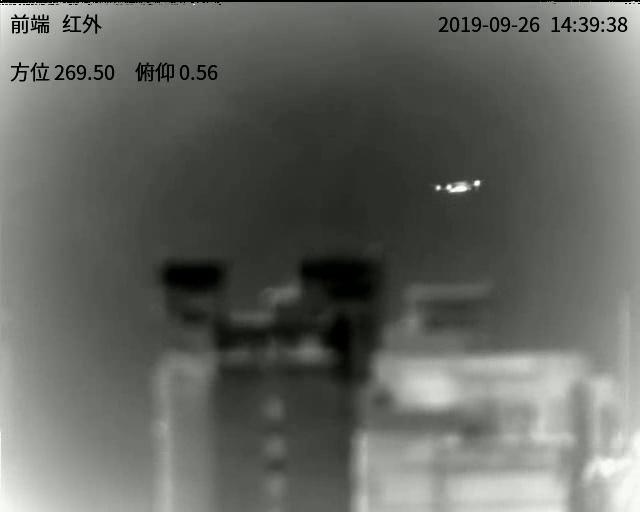DRONE: (433, 178, 482, 195)
